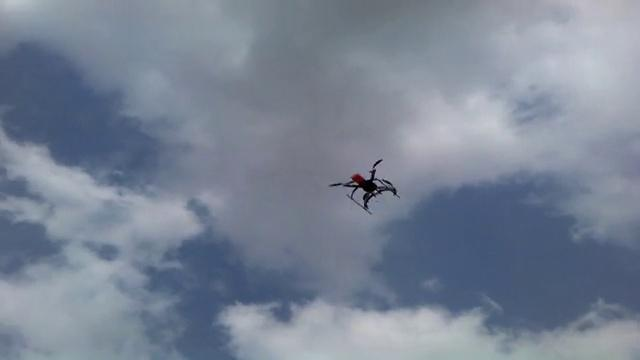drone: (327, 157, 401, 213)
